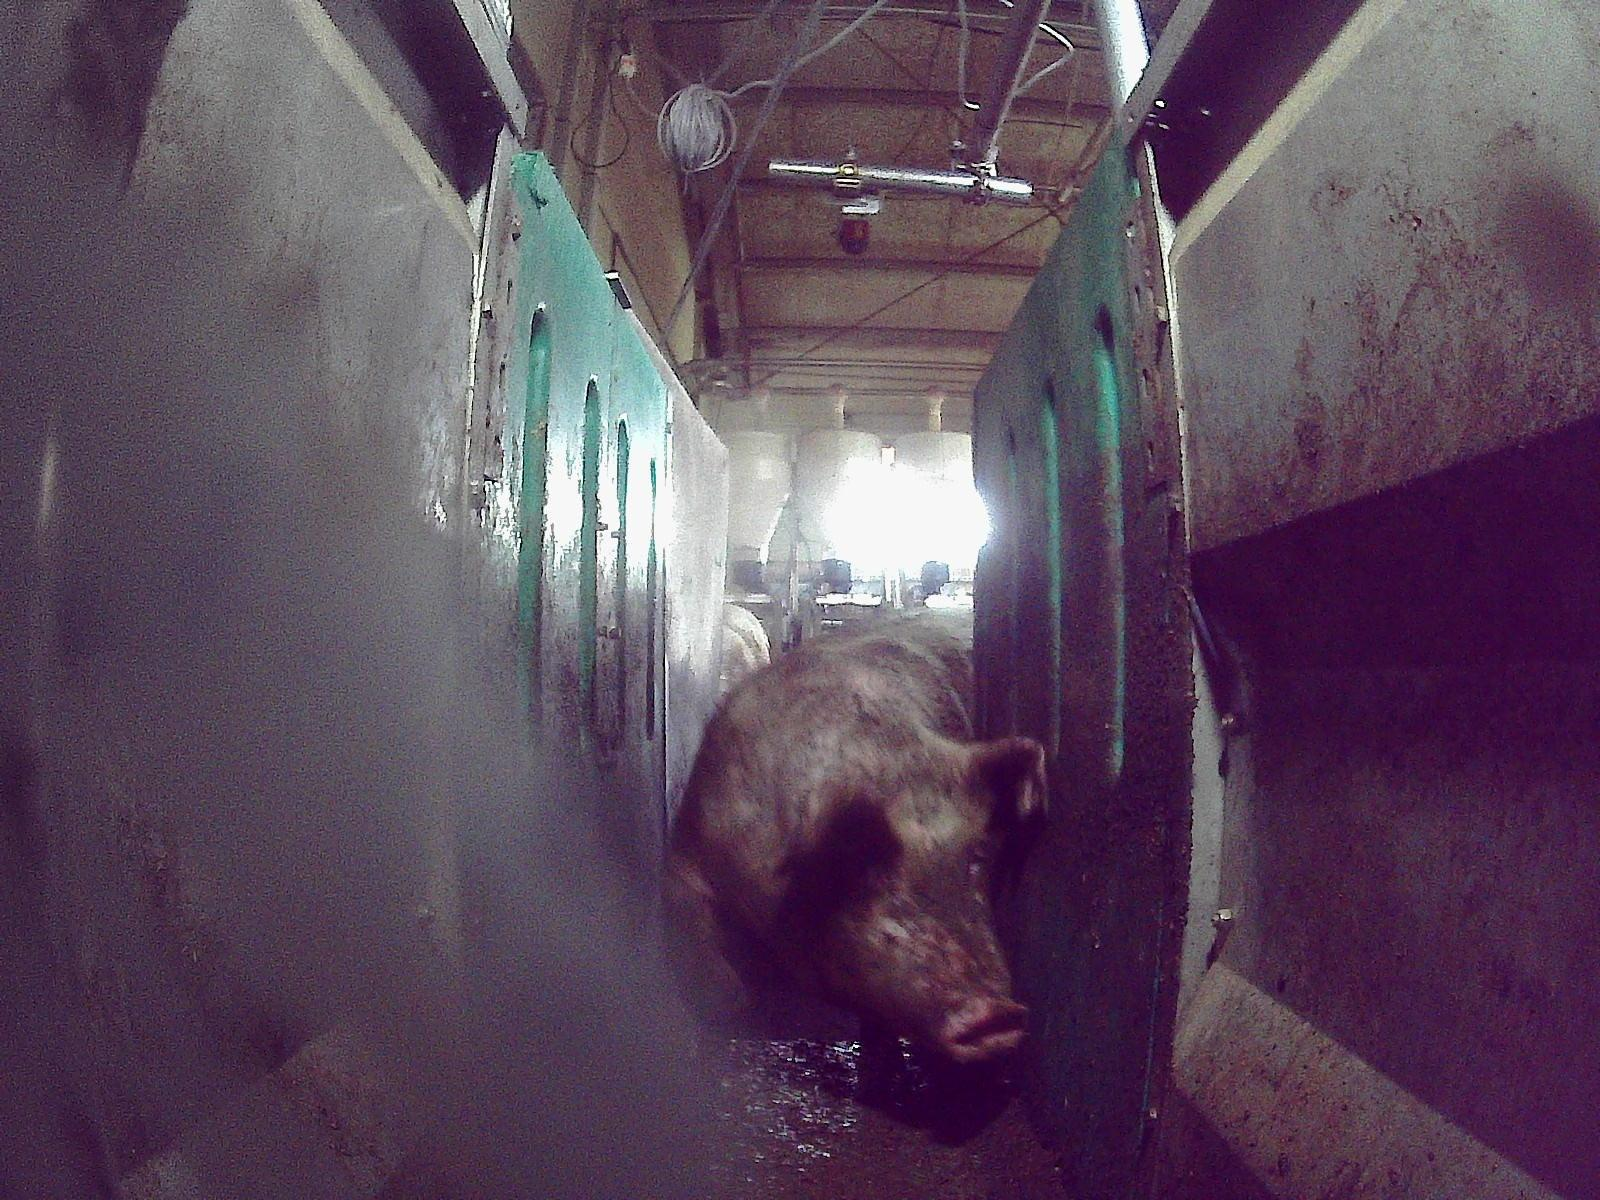Face: (792, 735, 1028, 1059)
